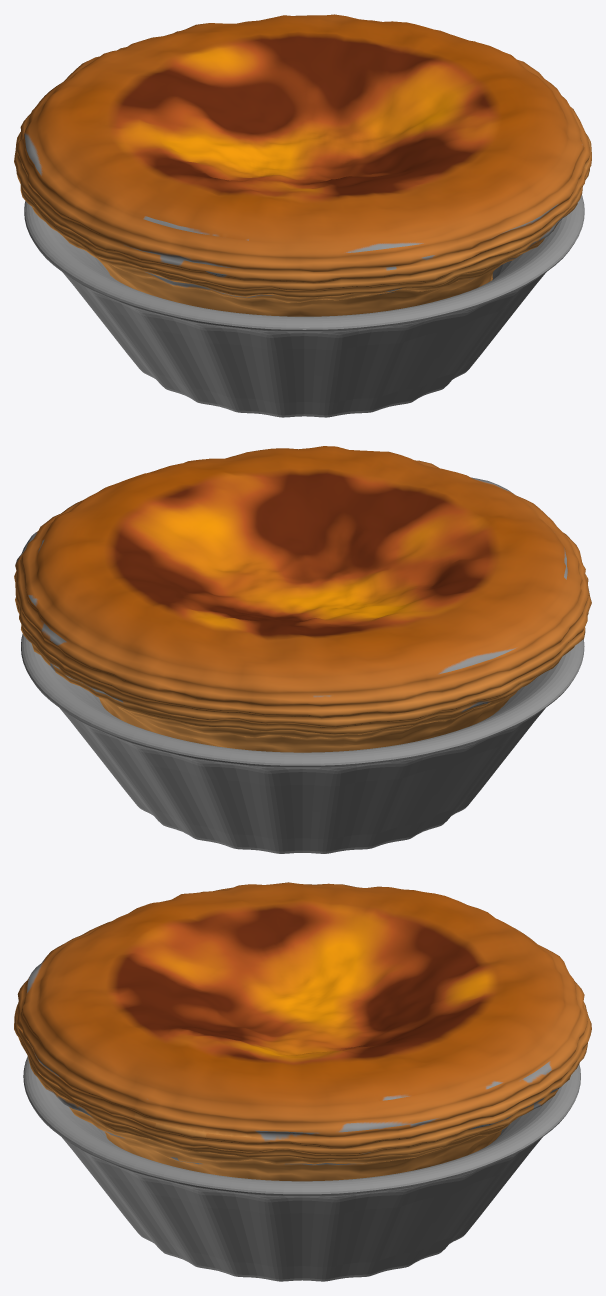
File: tart.glb
3 views of the same model, one above another, from view 1: azimuth 30°, elevation 25°; view 2: azimuth 150°, elevation 25°; view 3: azimuth 270°, elevation 25° (orthographic).
Visible parts, largest first — view 1: 圆环, 圆环.001; view 2: 圆环, 圆环.001; view 3: 圆环, 圆环.001.
Part boxes in pixels (left/top/right/bottom): 圆环: left=14, top=14, right=591, bottom=316; 圆环.001: left=24, top=195, right=584, bottom=417; 圆环: left=14, top=446, right=591, bottom=752; 圆环.001: left=21, top=634, right=584, bottom=853; 圆环: left=14, top=882, right=591, bottom=1181; 圆环.001: left=23, top=1056, right=580, bottom=1281.
Size of the model in its own units: 2.93 by 1.3 by 2.93.
Materials: 1 (1 with a texture image).
